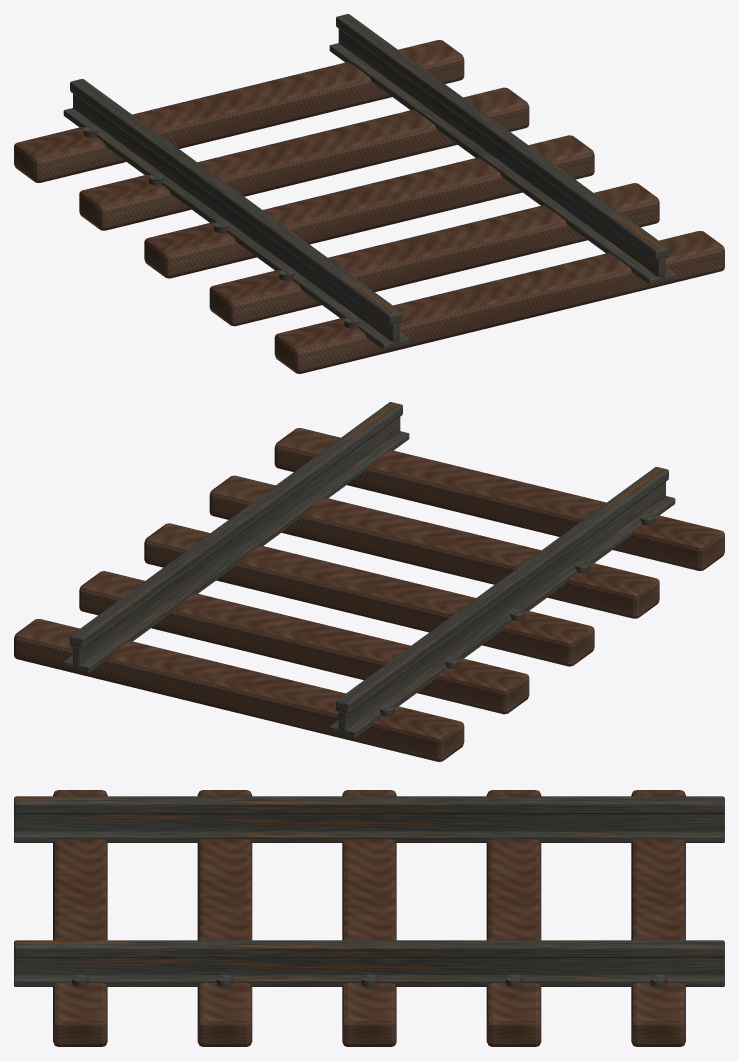
The model's file is rel_modular.glb.
3 renders of one model, top to bottom at view 1: azimuth 30°, elevation 25°; view 2: azimuth 150°, elevation 25°; view 3: azimuth 270°, elevation 25°, orthographic. The views are drawn at different scales.
Visible parts, largest first — view 1: Bantalan, Bantalan.002, Bantalan.003, Bantalan.001, Bantalan.004, Champignon, Champignon.001, Ame, Ame.001, Pied du rail.001, Pied du rail; view 2: Bantalan.004, Bantalan.002, Bantalan.001, Bantalan.003, Bantalan, Champignon, Champignon.001, Ame.001, Ame, Pied du rail.001, Pied du rail; view 3: Champignon, Ame, Champignon.001, Ame.001, Bantalan.001, Bantalan.003, Bantalan, Bantalan.004, Bantalan.002, Pied du rail, Pied du rail.001.
Boxes of the visible parts, <box> form: Bantalan: <box>274,231,724,373</box>; Bantalan.002: <box>144,135,594,278</box>; Bantalan.003: <box>79,87,529,230</box>; Bantalan.001: <box>209,183,659,326</box>; Bantalan.004: <box>14,40,464,182</box>; Champignon: <box>70,79,402,325</box>; Champignon.001: <box>336,14,668,260</box>; Ame: <box>73,94,400,343</box>; Ame.001: <box>338,29,665,278</box>; Pied du rail.001: <box>329,43,675,285</box>; Pied du rail: <box>63,108,409,350</box>; Bantalan.004: <box>14,619,464,761</box>; Bantalan.002: <box>144,523,594,666</box>; Bantalan.001: <box>209,475,659,618</box>; Bantalan.003: <box>79,571,529,714</box>; Bantalan: <box>274,428,724,570</box>; Champignon: <box>336,467,668,713</box>; Champignon.001: <box>70,402,402,648</box>; Ame.001: <box>73,417,400,666</box>; Ame: <box>338,482,665,730</box>; Pied du rail.001: <box>63,431,409,673</box>; Pied du rail: <box>329,496,675,738</box>; Champignon: <box>14,796,724,814</box>; Ame: <box>14,812,724,831</box>; Champignon.001: <box>14,940,724,957</box>; Ame.001: <box>14,956,724,975</box>; Bantalan.001: <box>197,790,252,1046</box>; Bantalan.003: <box>486,790,541,1046</box>; Bantalan: <box>53,790,107,1046</box>; Bantalan.004: <box>631,790,685,1046</box>; Bantalan.002: <box>342,790,396,1046</box>; Pied du rail: <box>14,831,724,842</box>; Pied du rail.001: <box>14,975,724,986</box>.
Size of the model in its own units: 2.32 by 0.287 by 3.
2 materials, 2 textured.
